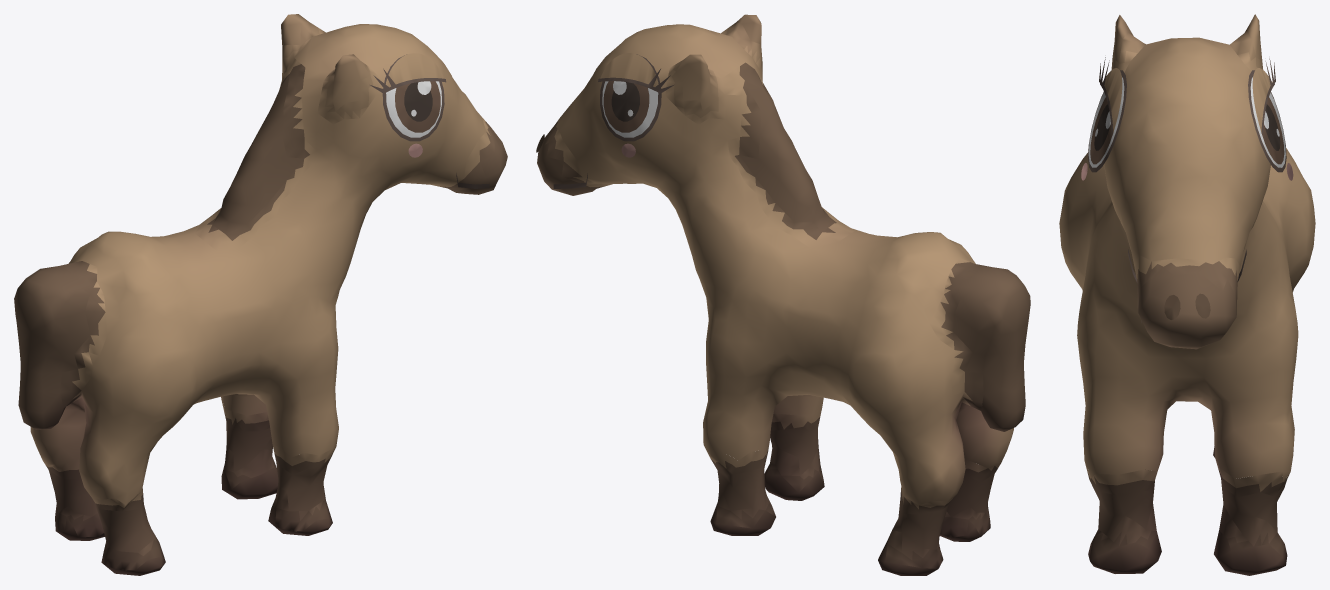
File: foal.glb
3 views of the same model, side by side, from view 1: azimuth 30°, elevation 25°; view 2: azimuth 150°, elevation 25°; view 3: azimuth 270°, elevation 25° (orthographic). The views are drawn at different scales.
Parts seen in each view (by area): view 1: foal; view 2: foal; view 3: foal.
Boxes of the visible parts, box(x1,y1,x2,y2) form: foal: box(14, 14, 507, 575); foal: box(536, 14, 1030, 575); foal: box(1059, 14, 1315, 575).
Bounding box in the file's own units: 0.8332 × 0.7792 × 0.3124.
